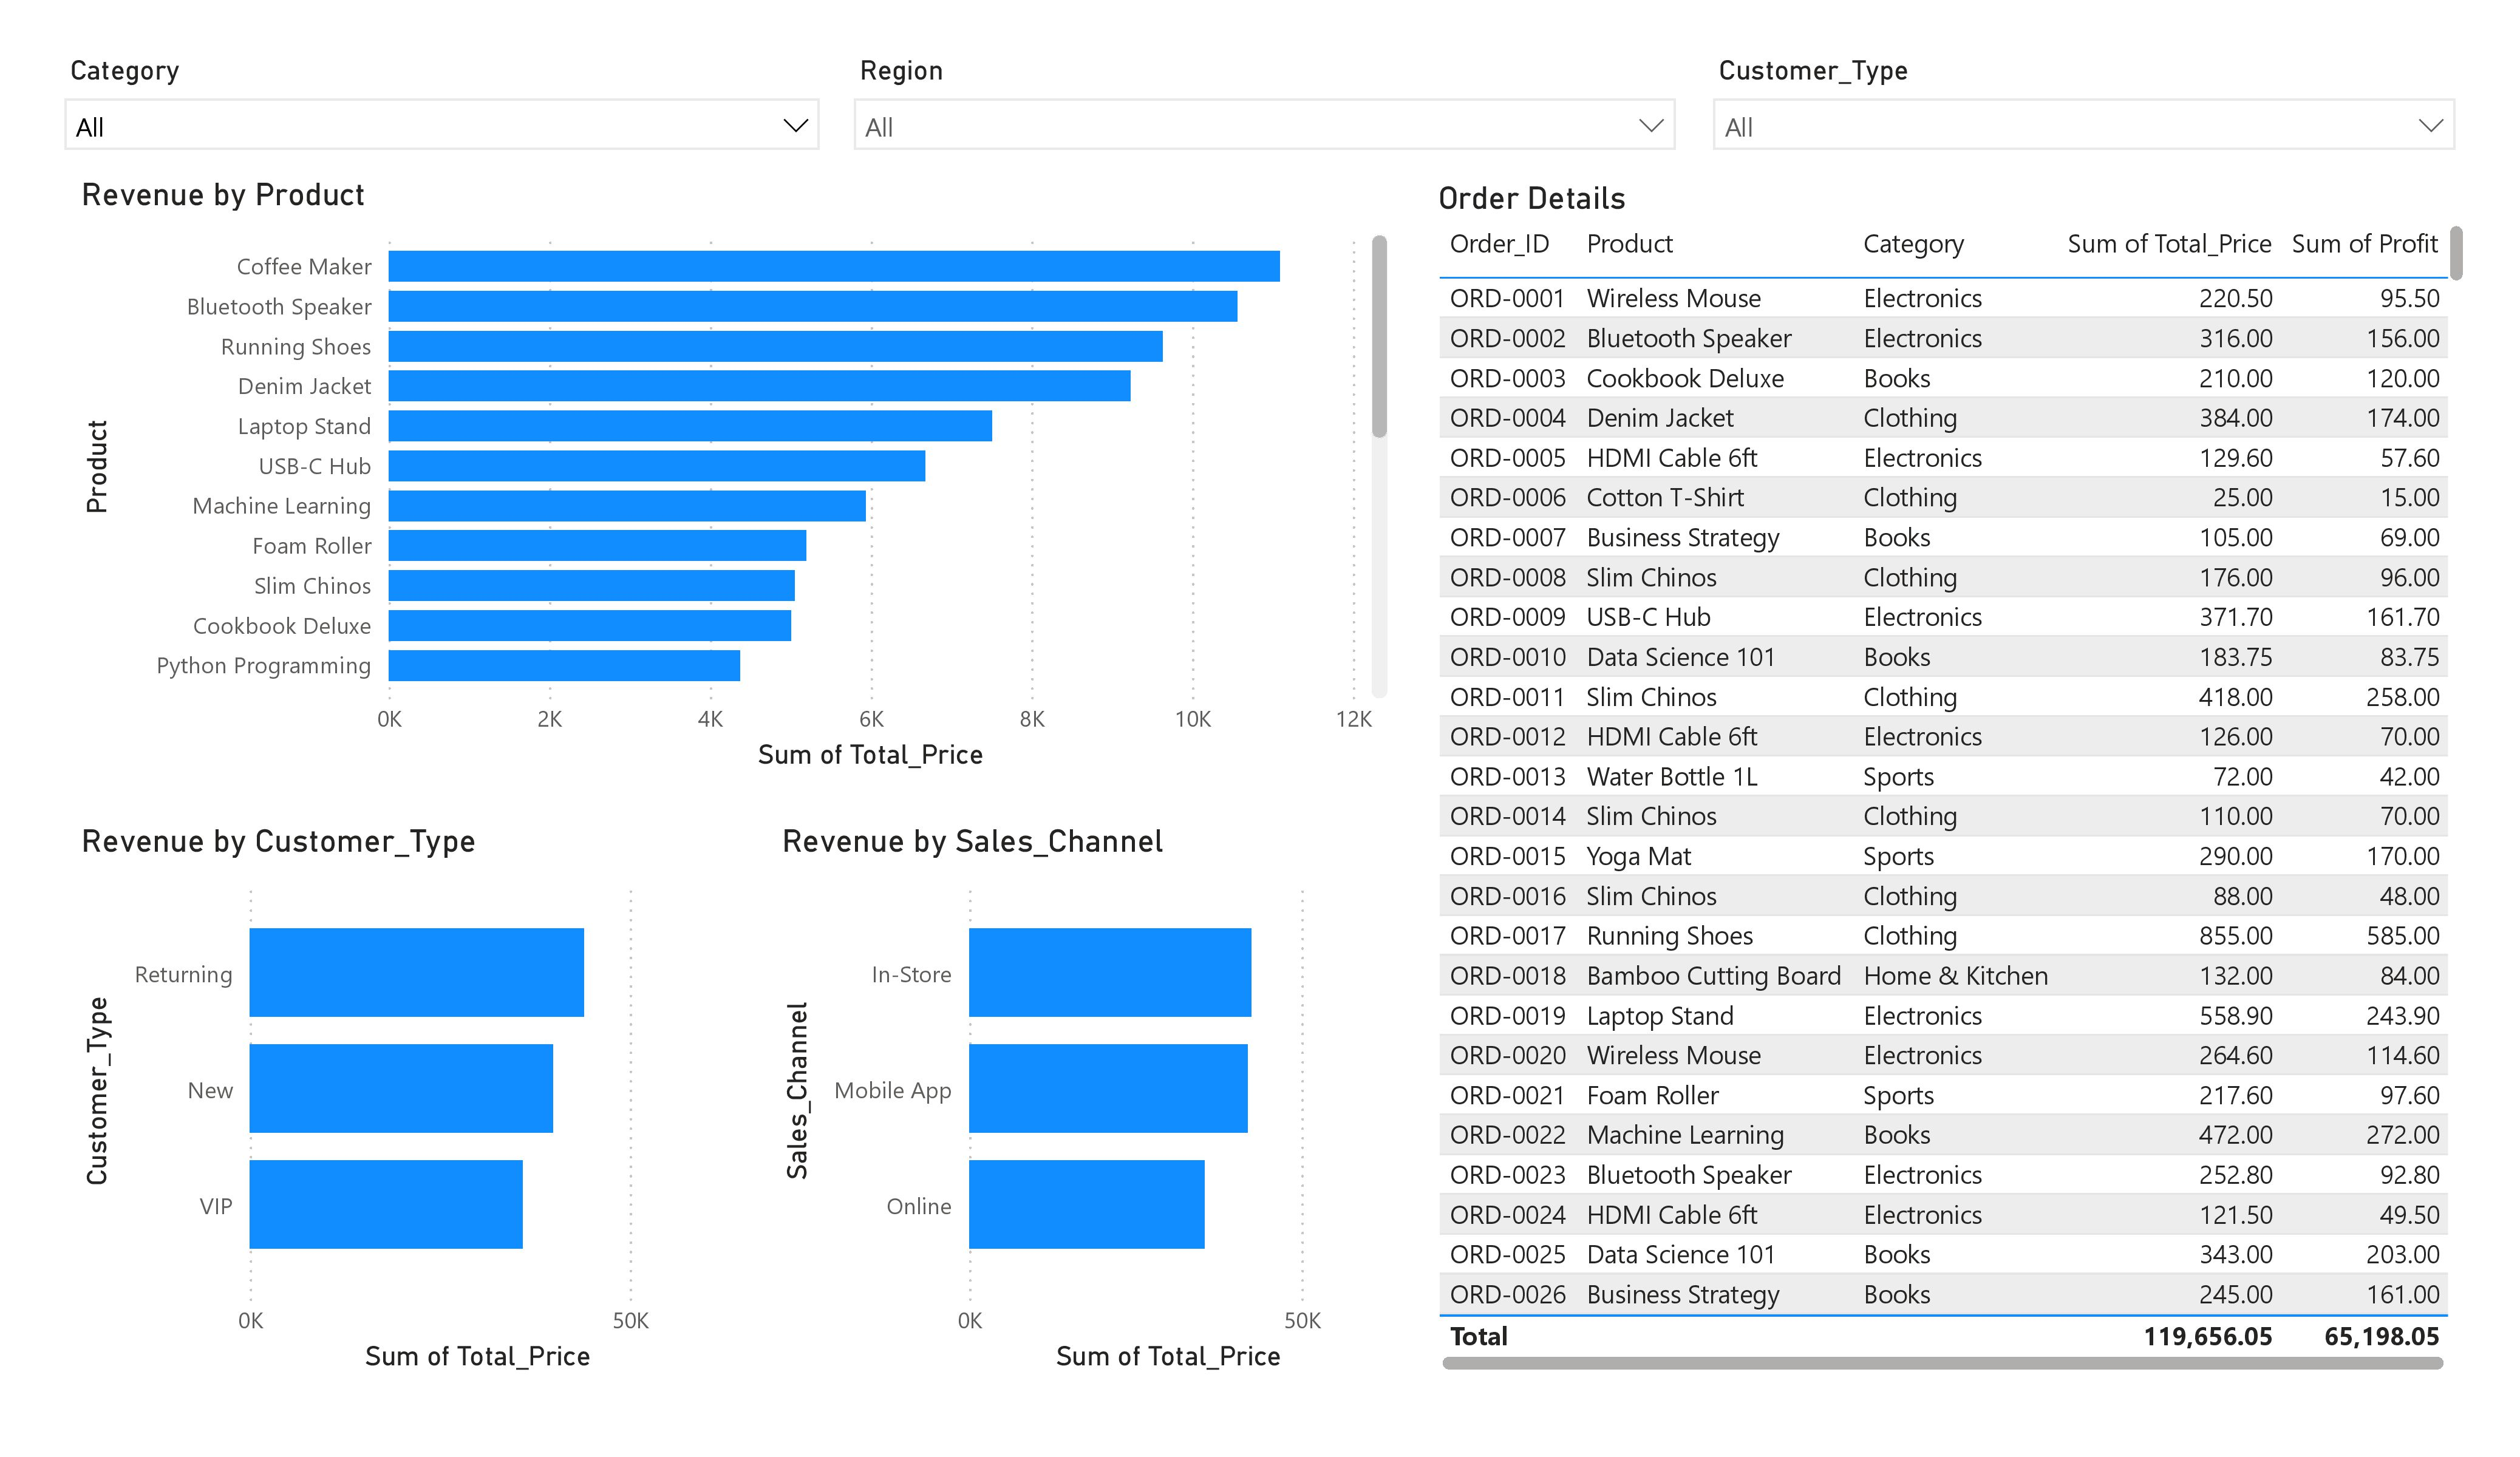

The page's visual inventory and layout, read from the dashboard file:
{"tool":"powerbi","page":{"name":"Page 2","canvas":[1280,720],"ordinal":1},"visuals":[{"type":"barChart","title":"Revenue by Product","fields":{"Category":["raw_sales_data.Product"],"Y":["Sum(raw_sales_data.Total_Price)"]},"box":[13.9,68.2,698.4,318.6],"z":0},{"type":"barChart","title":"Revenue by Customer_Type","fields":{"Category":["raw_sales_data.Customer_Type"],"Y":["Sum(raw_sales_data.Total_Price)"]},"box":[13.9,409,349.2,295],"z":1000},{"type":"barChart","title":"Revenue by Sales_Channel","fields":{"Category":["raw_sales_data.Sales_Channel"],"Y":["Sum(raw_sales_data.Total_Price)"]},"box":[382.6,409,329.7,295],"z":2000},{"type":"tableEx","title":"Order Details","fields":{"Values":["raw_sales_data.Order_ID","raw_sales_data.Product","raw_sales_data.Category","Sum(raw_sales_data.Total_Price)","Sum(raw_sales_data.Profit)"]},"box":[729,69.6,551,634.4],"z":3000},{"type":"slicer","fields":{"Values":["raw_sales_data.Category"]},"box":[0,0,418.2,68.5],"z":4000},{"type":"slicer","fields":{"Values":["raw_sales_data.Region"]},"box":[415.8,0,453.7,68.5],"z":5000},{"type":"slicer","fields":{"Values":["raw_sales_data.Customer_Type"]},"box":[869.4,0,410.9,68.5],"z":6000}]}

Visuals, with their boxes on the page's 1280x720 design canvas (x1, y1, x2, y2). These are canvas units, not pixel positions in the 2520x1457 screenshot, which may show the page scaled, cropped or inside an application window:
"Revenue by Product" barChart: detection(14, 68, 712, 387)
"Revenue by Customer_Type" barChart: detection(14, 409, 363, 704)
"Revenue by Sales_Channel" barChart: detection(383, 409, 712, 704)
"Order Details" tableEx: detection(729, 70, 1280, 704)
slicer - raw_sales_data.Category: detection(0, 0, 418, 68)
slicer - raw_sales_data.Region: detection(416, 0, 870, 68)
slicer - raw_sales_data.Customer_Type: detection(869, 0, 1280, 68)
